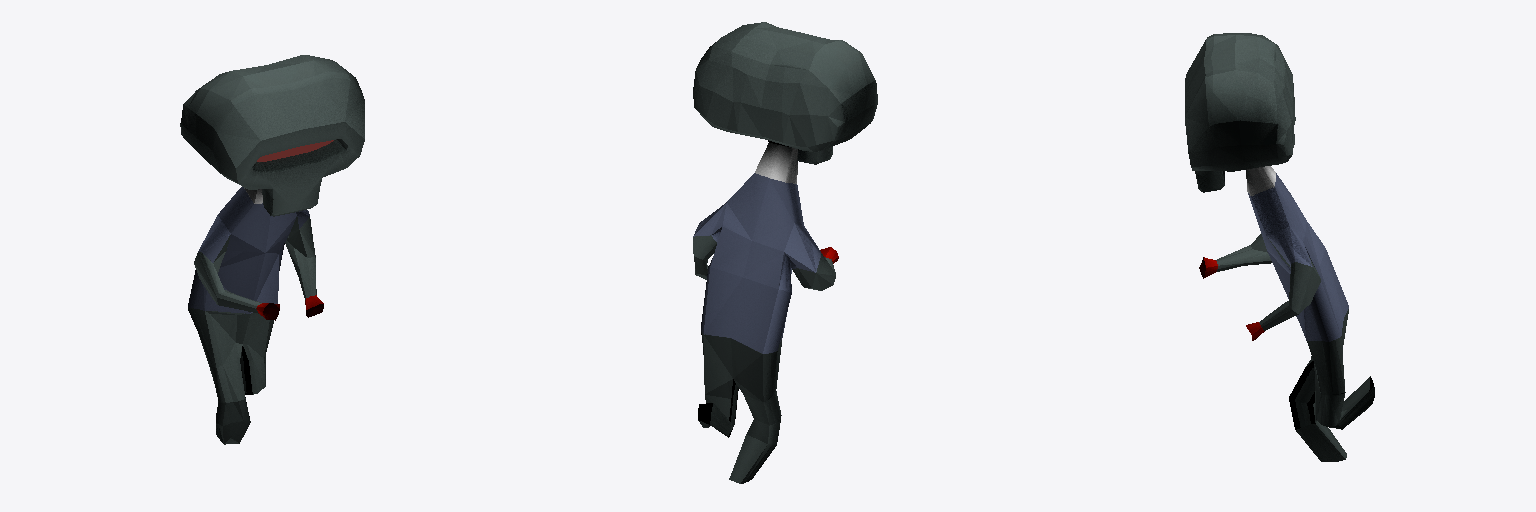
3 views of the same model, side by side, from view 1: azimuth 30°, elevation 25°; view 2: azimuth 150°, elevation 25°; view 3: azimuth 270°, elevation 25° (orthographic).
Visible parts, largest first — view 1: Plane; view 2: Plane; view 3: Plane.
Boxes of the visible parts, x1,y1,x2,y2 form: Plane: [180, 55, 364, 444]; Plane: [693, 22, 877, 483]; Plane: [1185, 33, 1374, 461].
Size of the model in its own units: 3.44 by 8.44 by 3.58.
6 materials, 1 textured.